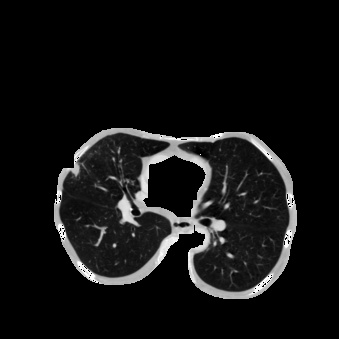PN: (69, 162, 81, 174)
